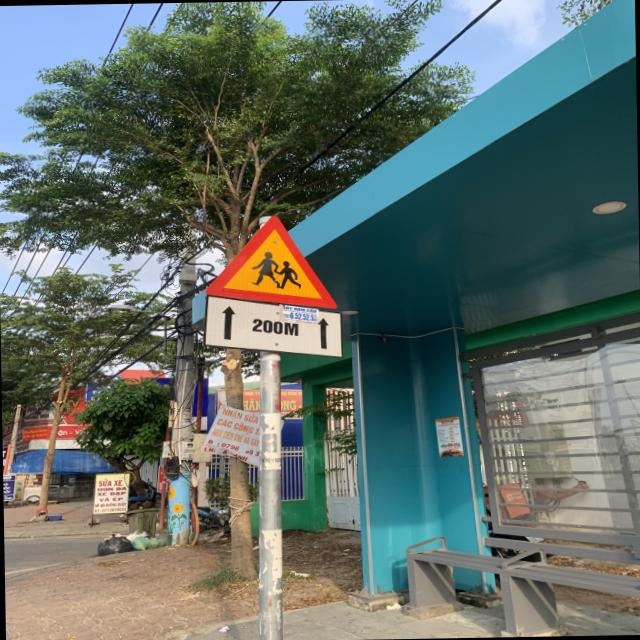Vong_Xuyen: (208, 213, 338, 311)
